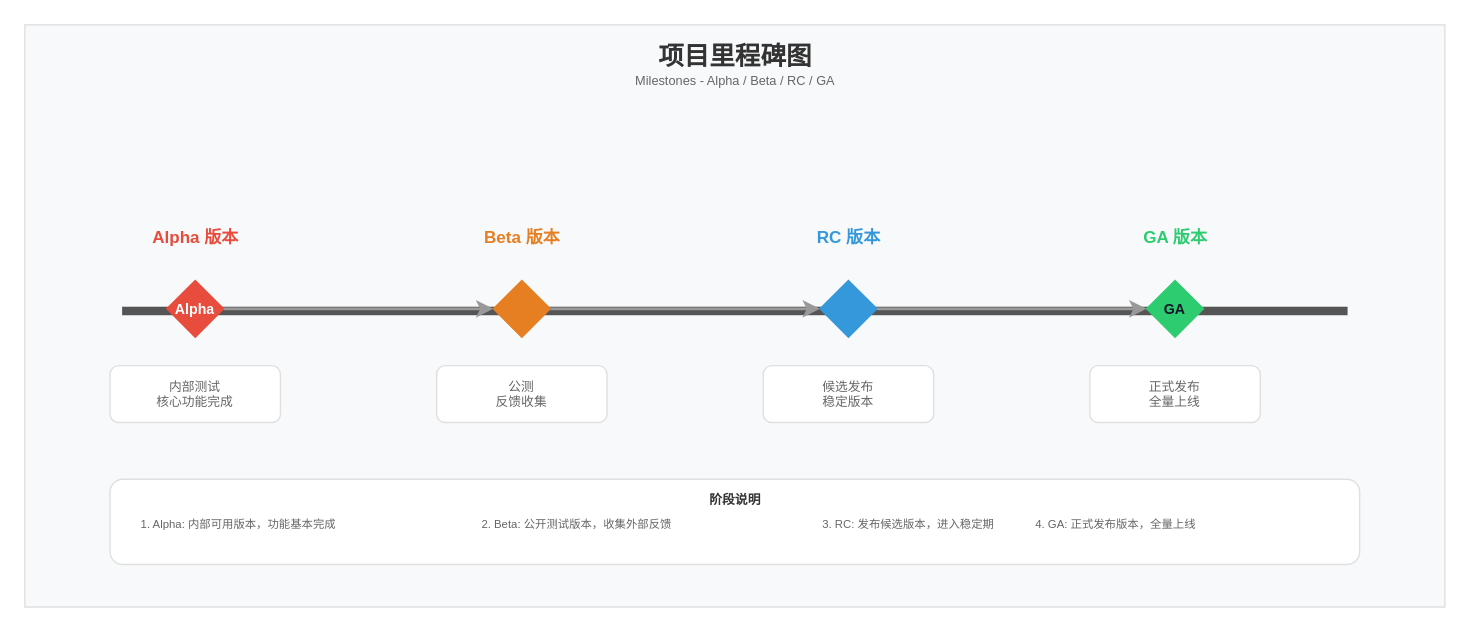
Image size: 1470x632. Some labels were removed from this diagram. Each missing label, with the centre of its shape:
Beta: (x=521, y=308)
RC: (x=848, y=308)
